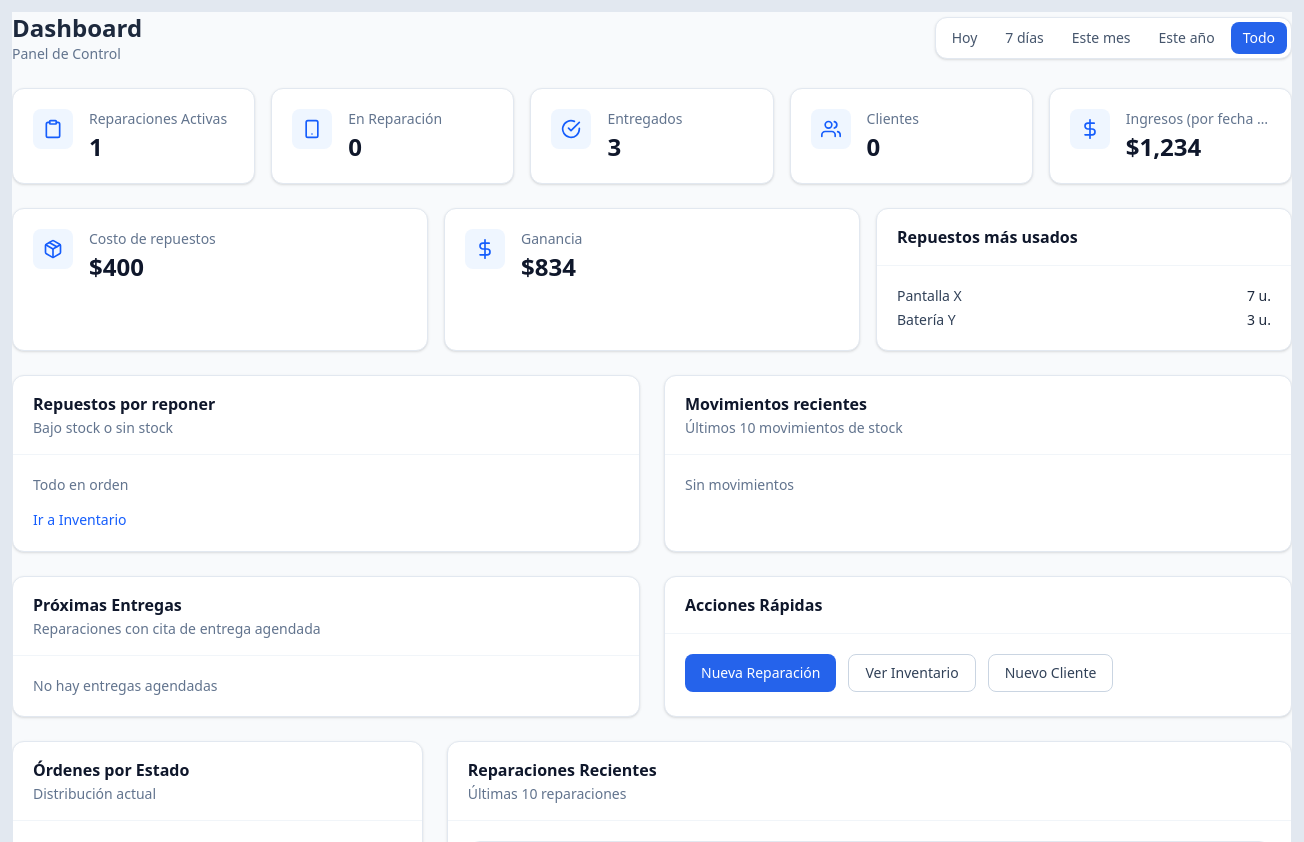
Scenario: DashboardPage bloques ADMIN (Fase 3) › el gráfico aclara que el período es por fecha de ingreso
Click the button "Este mes": point(1101, 38) [1060,22,1143,54]
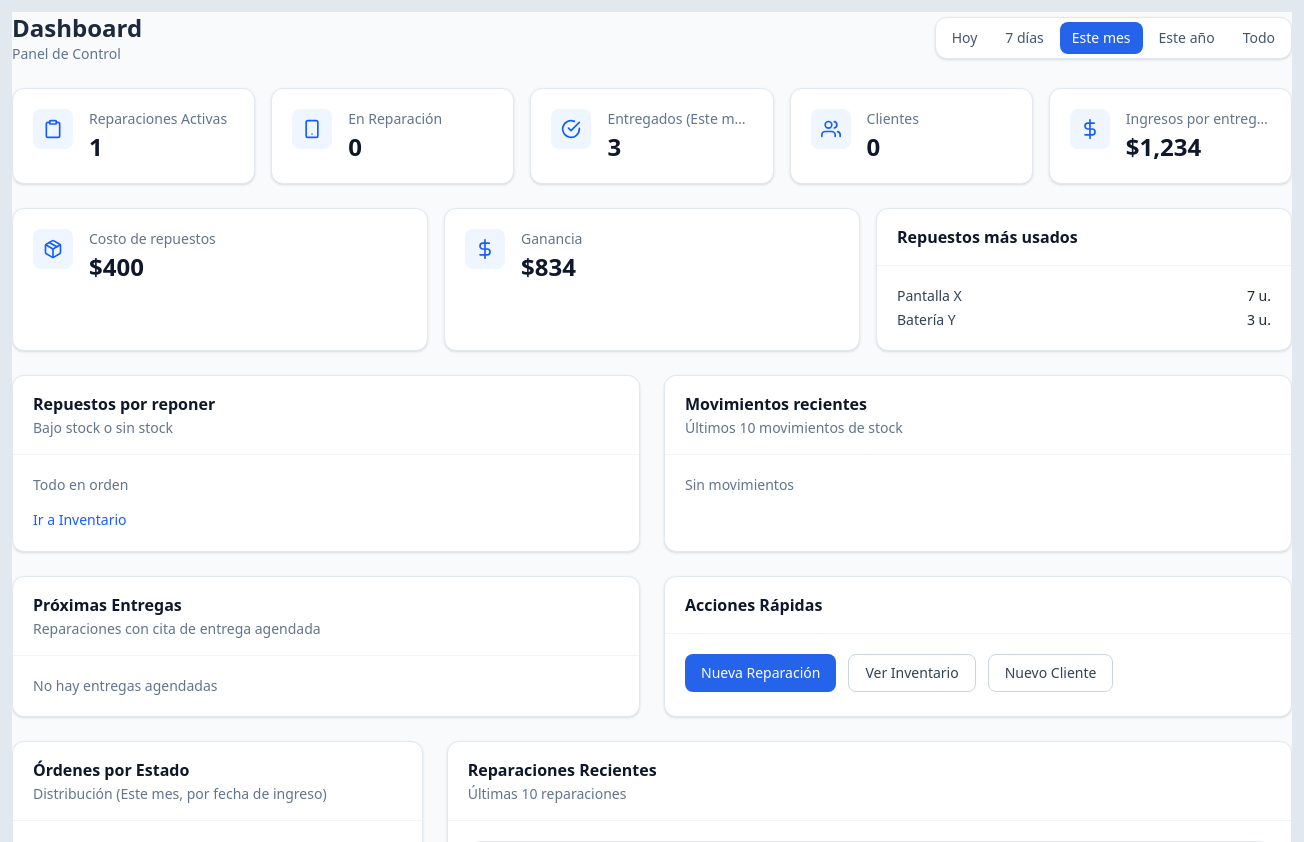
Expected: the text "Distribución (Este mes, por fecha de ingreso)" is shown, [33,784,327,803]
